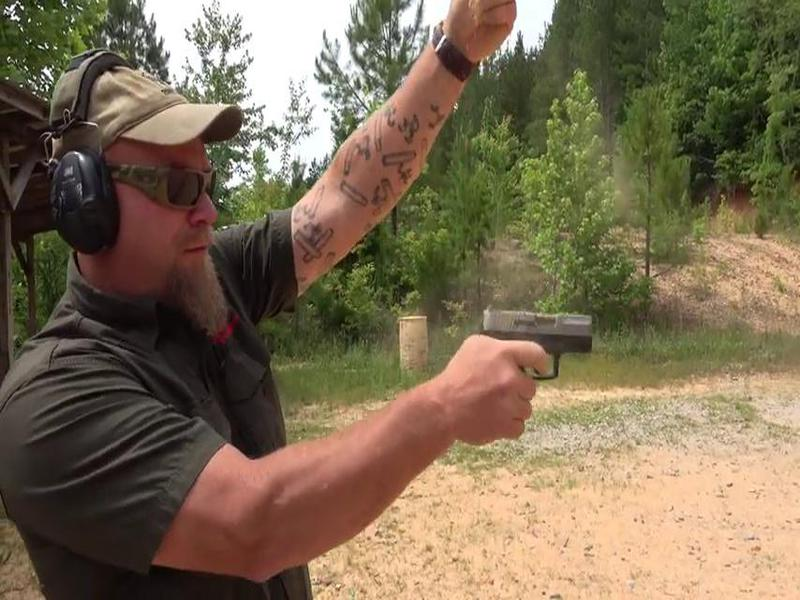Pistola: (449, 294, 633, 416)
